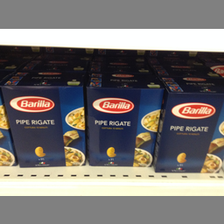pasta: (2, 72, 86, 166), (85, 74, 167, 167), (153, 80, 223, 173)
